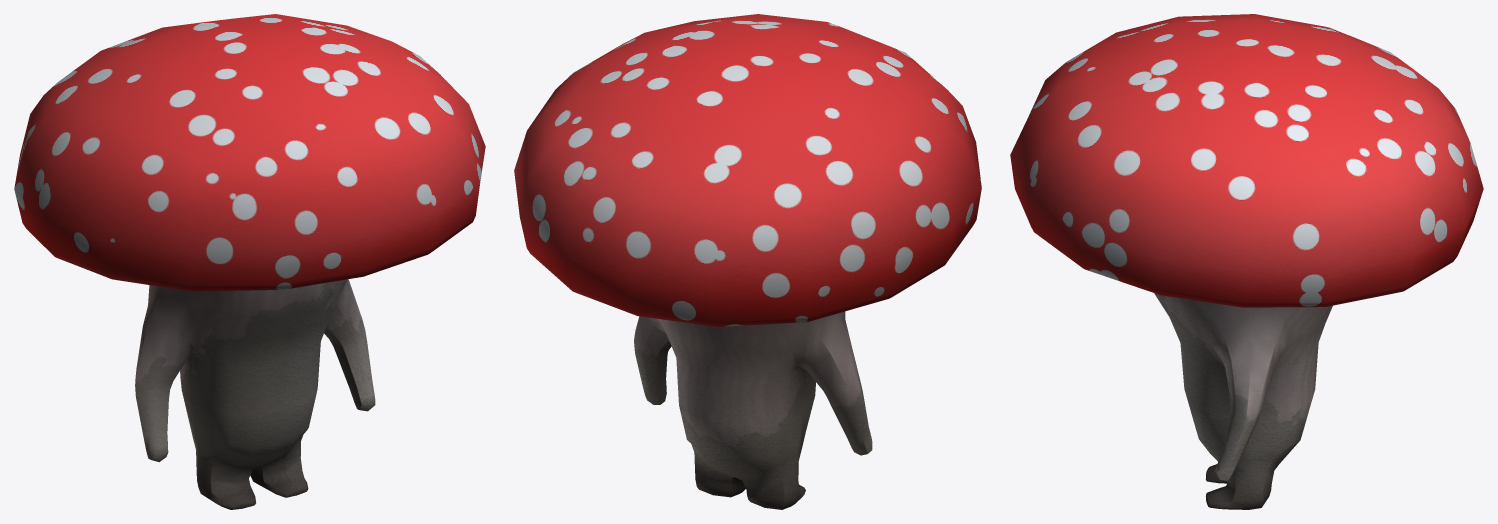
Rendered from Shroomman.fbx.
3 views of the same model, side by side, from view 1: azimuth 30°, elevation 25°; view 2: azimuth 150°, elevation 25°; view 3: azimuth 270°, elevation 25° (orthographic).
Parts seen in each view (by area): view 1: Roundcube.001; view 2: Roundcube.001; view 3: Roundcube.001.
Part boxes in pixels (box(x1,y1,x2,y2)): Roundcube.001: box(14, 14, 485, 509); Roundcube.001: box(514, 14, 981, 509); Roundcube.001: box(1010, 14, 1483, 509).
Size of the model in its own units: 147 by 151 by 146.
Materials: 5 (5 with a texture image).
